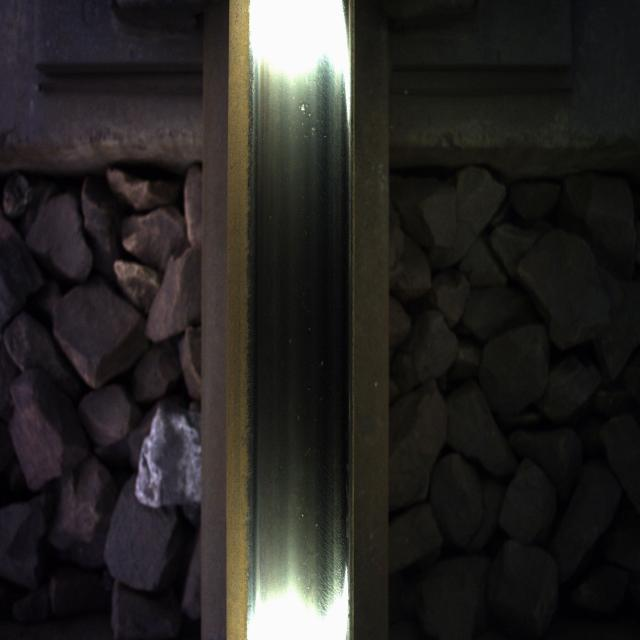break: (250, 55, 346, 606)
